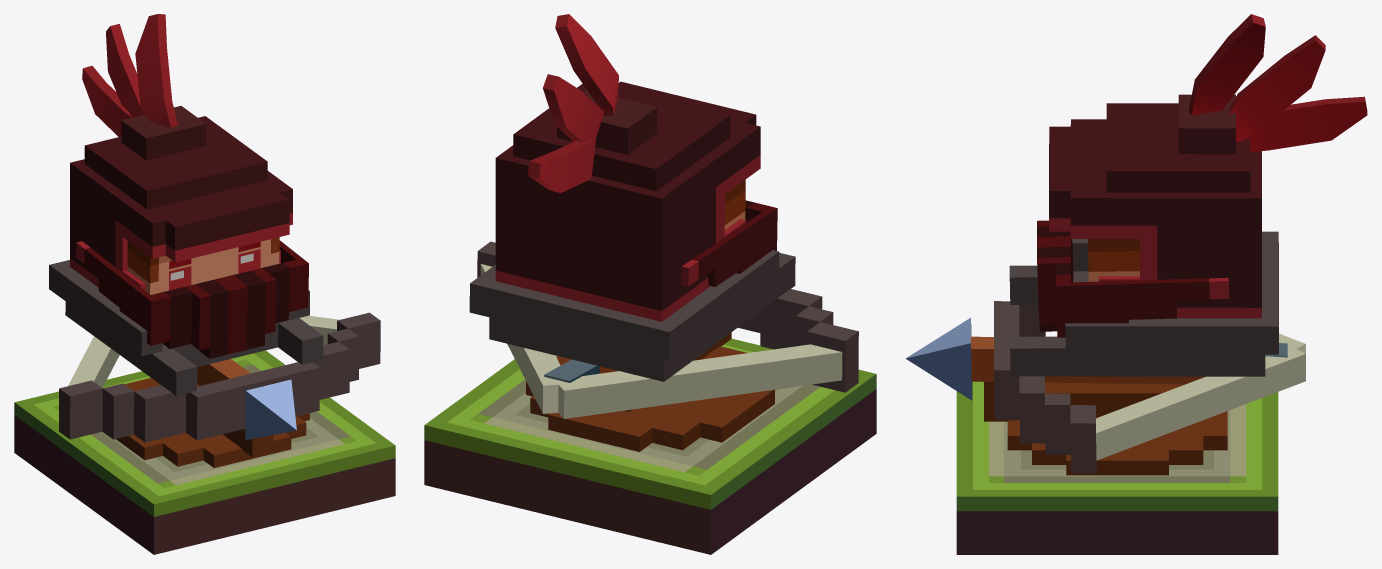
The model's file is Tower_Archer_LVL6.fbx.
The picture shows the model from 3 angles, left to right: view 1: azimuth 30°, elevation 25°; view 2: azimuth 150°, elevation 25°; view 3: azimuth 270°, elevation 25°; orthographic projection. The views are drawn at different scales.
Visible parts, largest first — view 1: Hat, Base9, Bow, Body, Rotater, Arrow, StringBot, holster, StringTop; view 2: Hat, Base9, Bow, StringBot, Rotater, StringTop, Arrow, Body; view 3: Hat, Base9, Bow, StringTop, Rotater, Arrow, holster, Body.
Part boxes in pixels (<box>): Hat: <box>70,14,308,358</box>; Base9: <box>14,350,395,554</box>; Bow: <box>49,260,380,442</box>; Body: <box>127,237,279,294</box>; Rotater: <box>116,378,309,467</box>; Arrow: <box>197,359,296,440</box>; StringBot: <box>68,336,119,387</box>; holster: <box>197,384,273,457</box>; StringTop: <box>300,315,339,344</box>; Hat: <box>495,14,777,321</box>; Base9: <box>424,338,876,554</box>; Bow: <box>469,241,858,392</box>; StringBot: <box>558,344,842,418</box>; Rotater: <box>526,346,774,451</box>; StringTop: <box>480,264,562,413</box>; Arrow: <box>544,359,617,382</box>; Body: <box>724,180,745,229</box>; Hat: <box>1037,14,1367,337</box>; Base9: <box>956,381,1278,554</box>; Bow: <box>994,231,1278,473</box>; StringTop: <box>1096,349,1305,460</box>; Rotater: <box>1007,384,1227,475</box>; Arrow: <box>905,317,1288,400</box>; holster: <box>984,382,1182,421</box>; Body: <box>1088,239,1139,281</box>.
Bounding box in the file's own units: 128 × 164 × 144.
